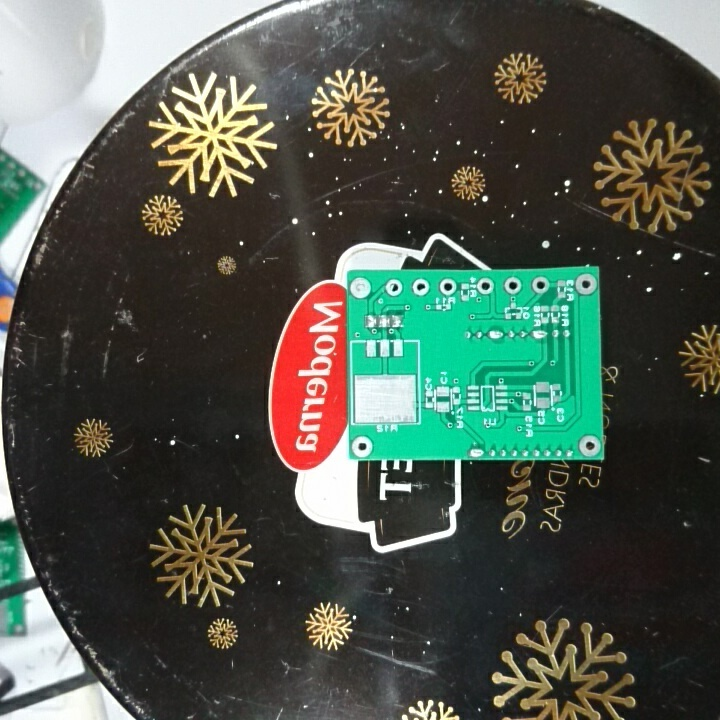F: (348, 275, 374, 301), (577, 433, 602, 458), (349, 435, 374, 458), (574, 272, 597, 296), (500, 275, 522, 296), (438, 276, 458, 298), (410, 277, 430, 299), (384, 276, 403, 298), (531, 275, 550, 295), (475, 278, 496, 296)
P: (485, 327, 505, 343), (529, 326, 549, 342), (466, 445, 485, 460)
